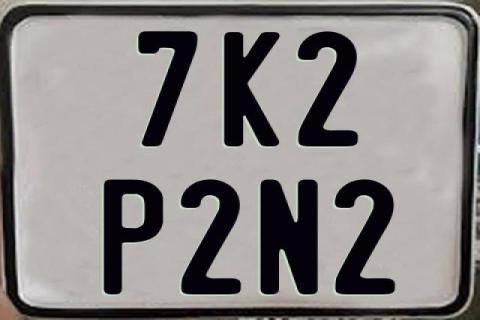0: (135, 29, 198, 148), (333, 178, 395, 298), (295, 30, 357, 148), (181, 177, 243, 292)
K: (224, 31, 282, 147)
N: (257, 177, 315, 297)
P: (104, 177, 165, 293)
